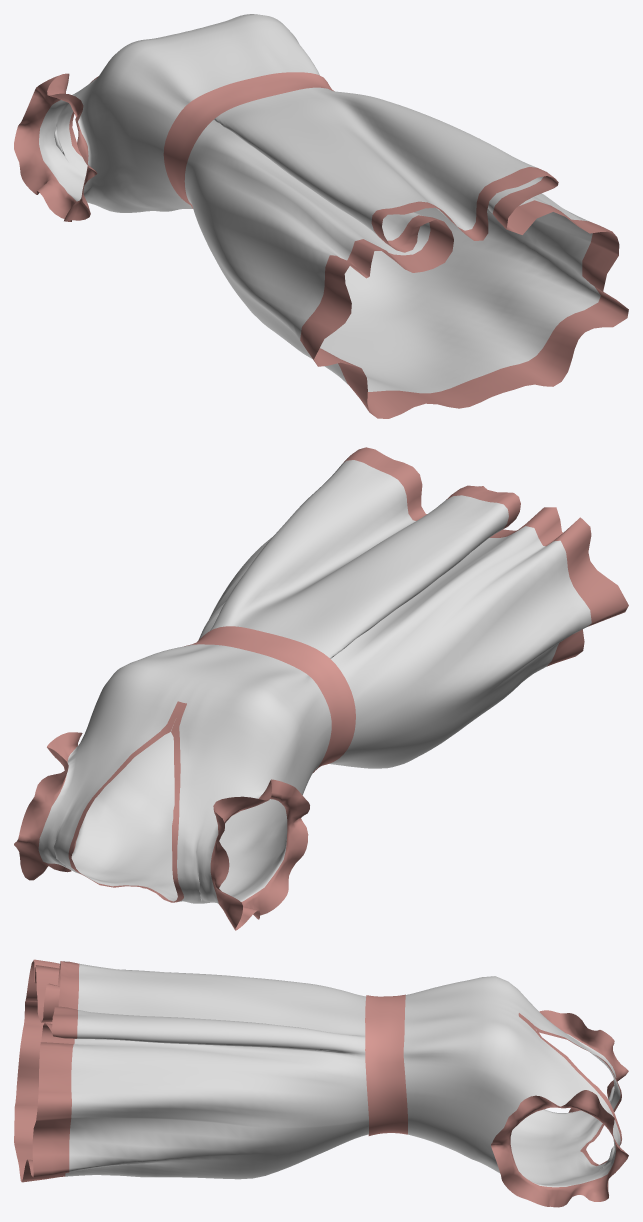
Rendered from elbise.fbx.
The picture shows the model from 3 angles, top to bottom: view 1: azimuth 30°, elevation 25°; view 2: azimuth 150°, elevation 25°; view 3: azimuth 270°, elevation 25°; orthographic projection. The views are drawn at different scales.
Parts seen in each view (by area): view 1: dress; view 2: dress; view 3: dress.
Part boxes in pixels (x1,y1,x2,y2): dress: [14, 14, 628, 418]; dress: [14, 447, 628, 930]; dress: [14, 959, 628, 1207].
Size of the model in its own units: 48.06 by 31.02 by 93.98.
